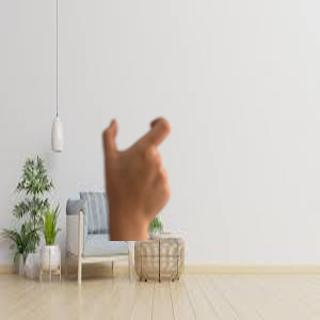Irritated: (92, 106, 178, 239)
